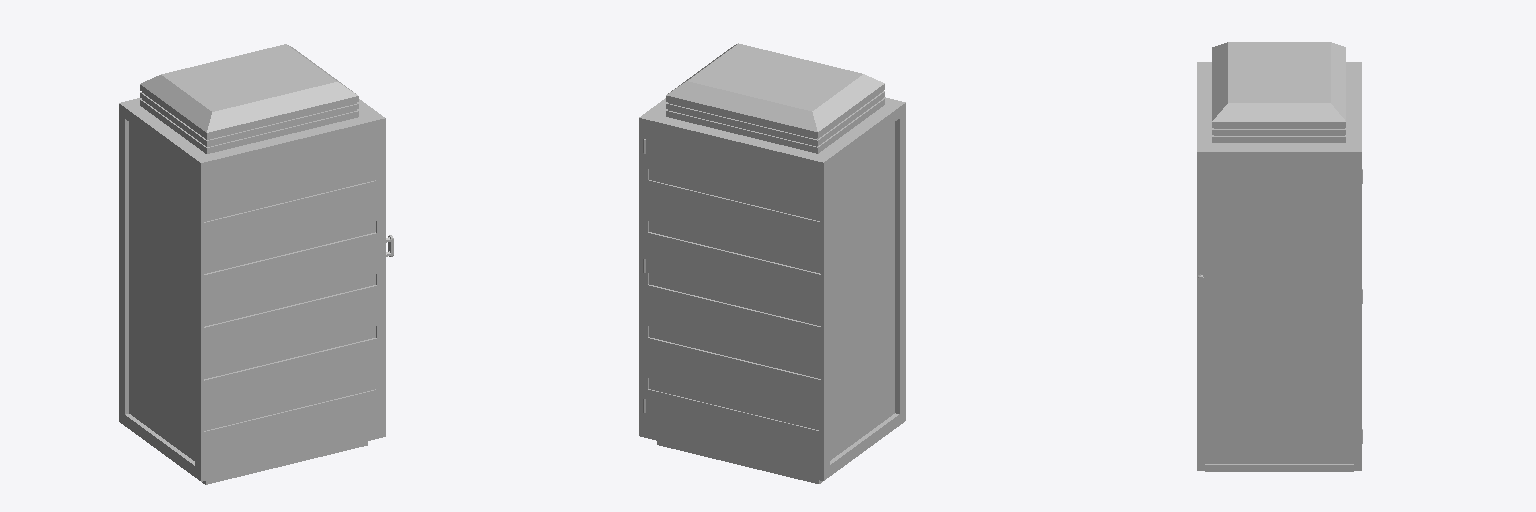
File: server.obj
3 renders of one model, left to right at view 1: azimuth 30°, elevation 25°; view 2: azimuth 150°, elevation 25°; view 3: azimuth 270°, elevation 25°, orthographic.
Parts seen in each view (by area): view 1: server, Cube.074_Cube.060; view 2: server, Cube.074_Cube.060; view 3: Cube.074_Cube.060, server.
Boxes of the visible parts, box(x1,y1,x2,y2) form: server: box(119, 44, 379, 484); Cube.074_Cube.060: box(357, 99, 393, 437); server: box(645, 43, 905, 483); Cube.074_Cube.060: box(639, 98, 666, 437); Cube.074_Cube.060: box(1197, 150, 1362, 470); server: box(1197, 42, 1361, 471).
Size of the model in its own units: 1.33 by 2.38 by 0.9938.